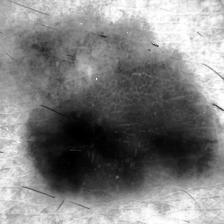Benign Marking or Mole: (7, 20, 218, 199)
